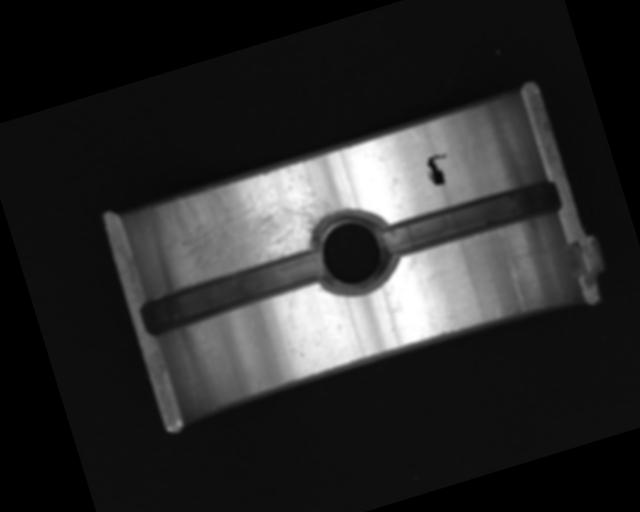blot: (422, 150, 454, 189)
gap: (136, 246, 327, 338), (380, 175, 563, 261)
hole: (303, 200, 402, 299)
nick: (503, 258, 529, 310)
scratch: (149, 155, 348, 290)
